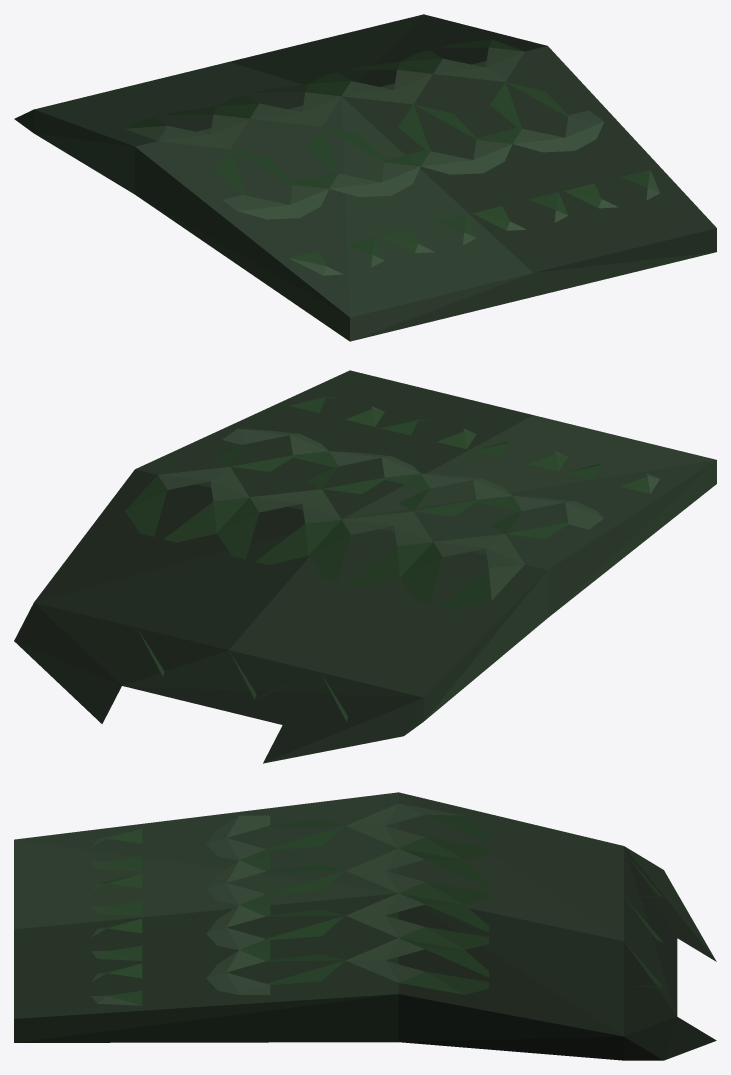
The model's file is adamant-chainbody.obj.
3 views of the same model, one above another, from view 1: azimuth 30°, elevation 25°; view 2: azimuth 150°, elevation 25°; view 3: azimuth 270°, elevation 25° (orthographic).
Parts seen in each view (by area): view 1: Item Adamant chainbody 2026-09-24_18-15-39; view 2: Item Adamant chainbody 2026-09-24_18-15-39; view 3: Item Adamant chainbody 2026-09-24_18-15-39.
Boxes of the visible parts, x1,y1,x2,y2 form: Item Adamant chainbody 2026-09-24_18-15-39: (14, 14, 716, 341); Item Adamant chainbody 2026-09-24_18-15-39: (14, 370, 716, 763); Item Adamant chainbody 2026-09-24_18-15-39: (14, 792, 716, 1060).
Bounding box in the file's own units: 36 × 9 × 53.
